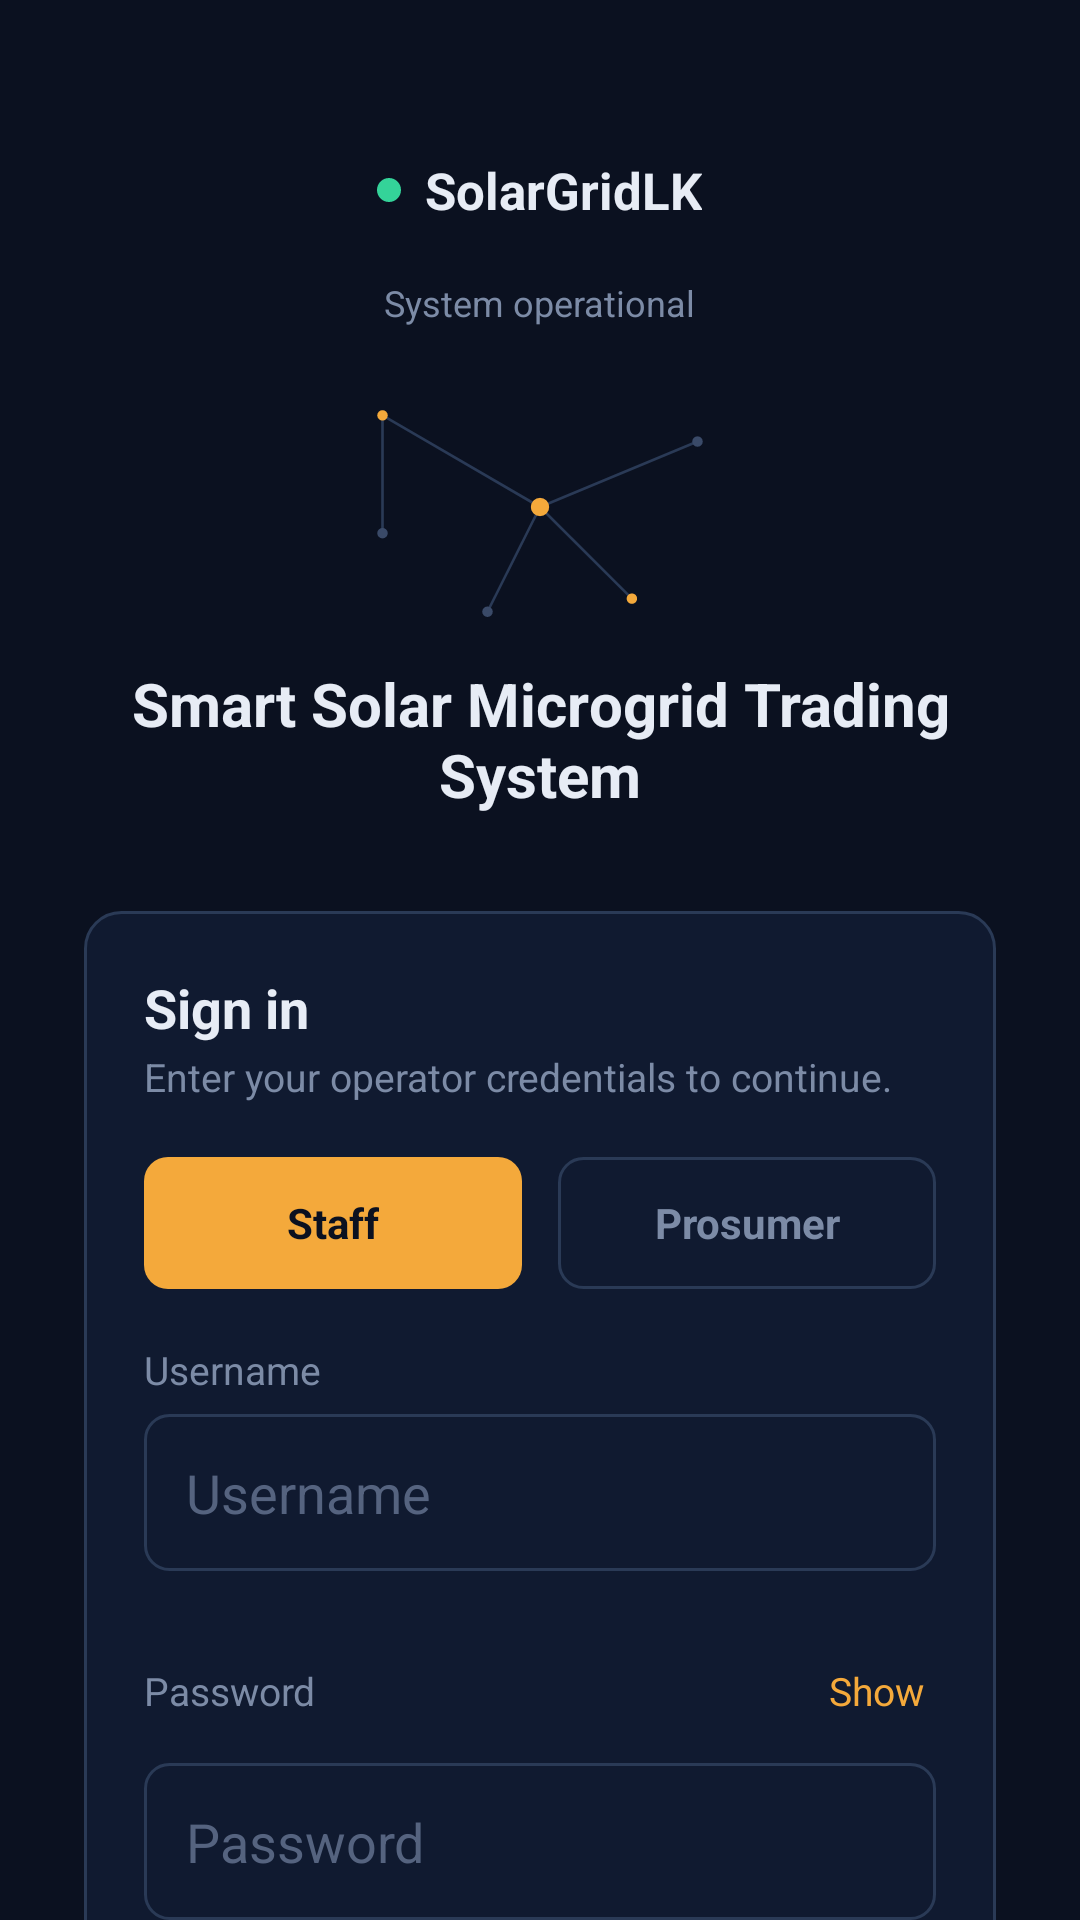

Point at icon controls on the screen. Image size 1080x1920, points as point (x, y).
grid motif: point (540, 513)
